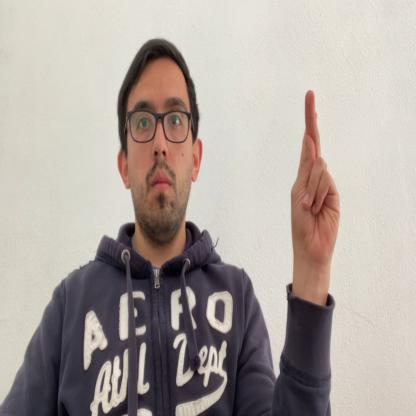P: (290, 89, 340, 280)
